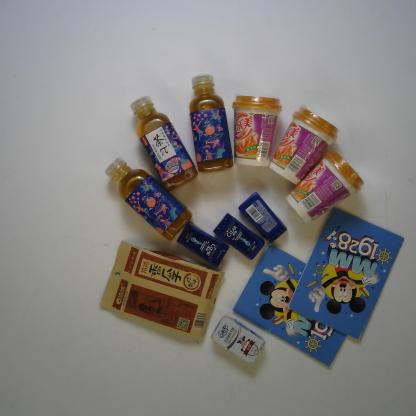Dried Food: (98, 239, 224, 341)
Drink: (104, 157, 194, 242), (130, 96, 200, 192), (187, 73, 235, 174)
Instant Drink: (284, 148, 365, 226), (267, 106, 339, 185), (229, 93, 282, 169)
Milk: (209, 312, 267, 368)
Personal Hygiene: (238, 192, 287, 243), (178, 220, 230, 267), (213, 213, 264, 259)
Stationery: (286, 204, 405, 341), (232, 242, 346, 370)
